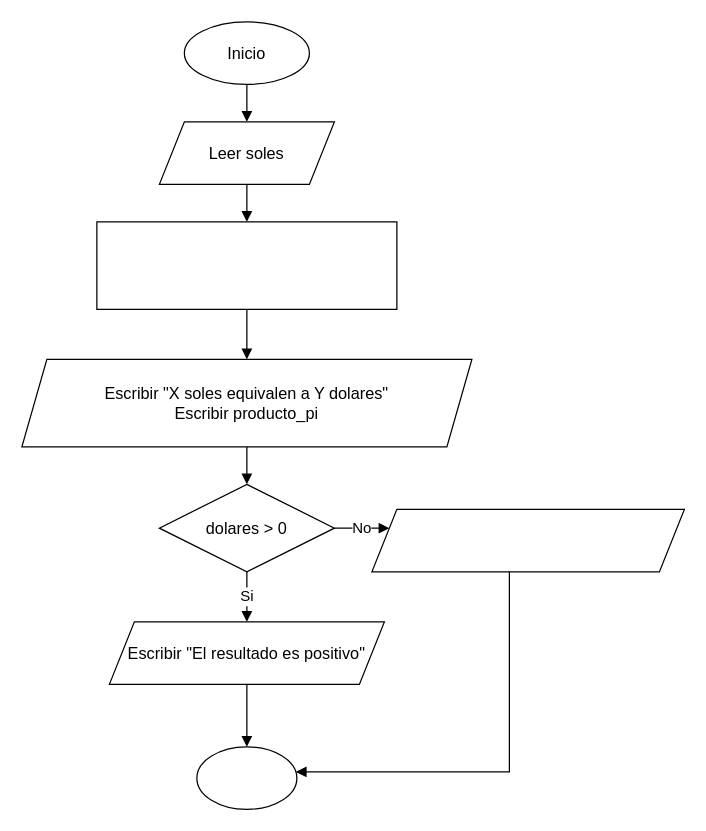
This 706x831 diagram has some shape labels left out. Each missing label, with the centre of its shape:
dolares = soles * TASA_CAMBIO producto_pi = dolares * PI: [246,265]
Escribir "El resultado no es positivo": [527,540]
Fin: [246,777]
